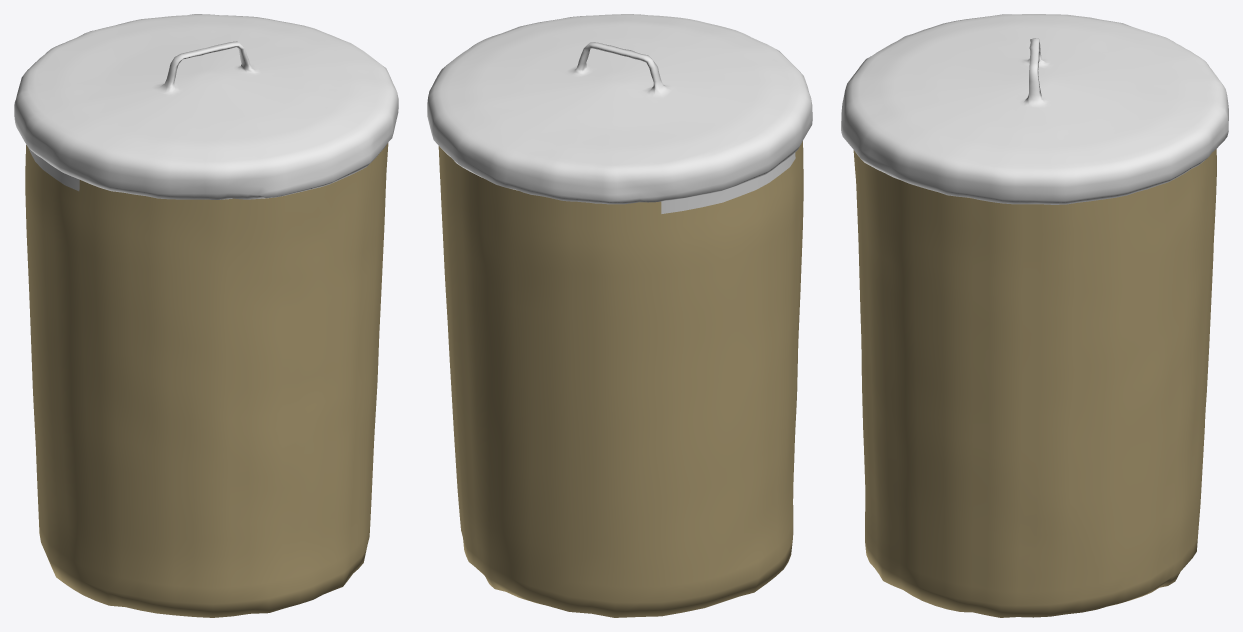
Rendered from Bin.fbx.
3 views of the same model, side by side, from view 1: azimuth 30°, elevation 25°; view 2: azimuth 150°, elevation 25°; view 3: azimuth 270°, elevation 25° (orthographic).
Visible parts, largest first — view 1: bin:Mesh; view 2: bin:Mesh; view 3: bin:Mesh.
Boxes of the visible parts, <box> form: bin:Mesh: <box>14,14,398,617</box>; bin:Mesh: <box>427,14,812,617</box>; bin:Mesh: <box>841,14,1228,617</box>.
Bounding box in the file's own units: 50.44 × 73 × 51.
